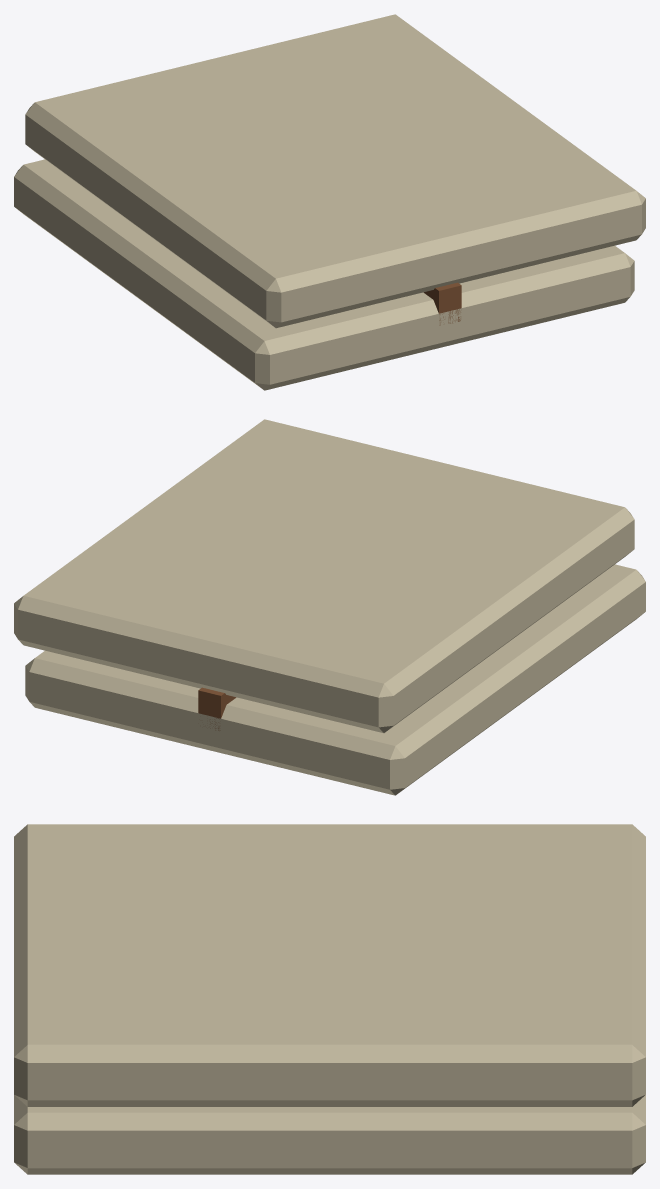
Rendered from set_open_book.glb.
The picture shows the model from 3 angles, top to bottom: view 1: azimuth 30°, elevation 25°; view 2: azimuth 150°, elevation 25°; view 3: azimuth 270°, elevation 25°; orthographic projection. The views are drawn at different scales.
Visible parts, largest first — view 1: set_open_book; view 2: set_open_book; view 3: set_open_book.
Part boxes in pixels (box(x1,y1,x2,y2)): set_open_book: box(14, 14, 645, 390); set_open_book: box(14, 419, 645, 795); set_open_book: box(14, 824, 645, 1174).
Size of the model in its own units: 0.206 by 0.055 by 0.23.
